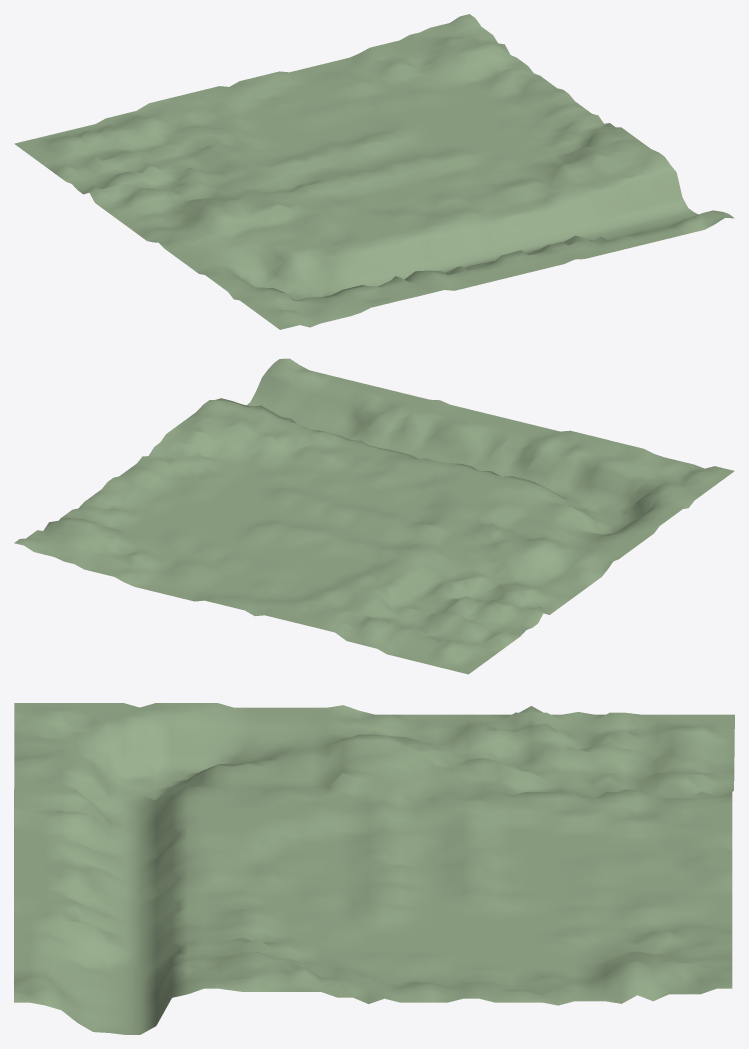
File: escene floor.fbx
3 renders of one model, top to bottom at view 1: azimuth 30°, elevation 25°; view 2: azimuth 150°, elevation 25°; view 3: azimuth 270°, elevation 25°, orthographic. The views are drawn at different scales.
Visible parts, largest first — view 1: Floor; view 2: Floor; view 3: Floor.
Part boxes in pixels (bbox=[...]): Floor: bbox=[14, 14, 734, 329]; Floor: bbox=[14, 358, 734, 674]; Floor: bbox=[14, 703, 734, 1034].
Size of the model in its own units: 34.11 by 2.94 by 34.58.
